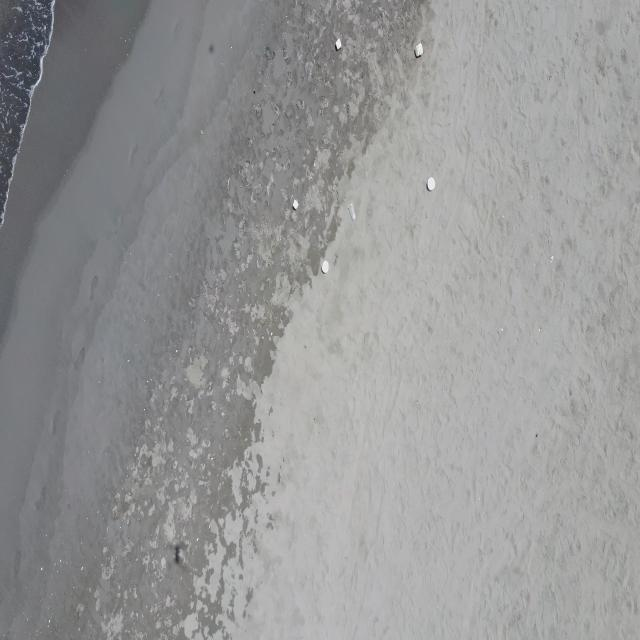take-away-containers: (426, 176, 436, 192), (415, 42, 423, 58), (321, 259, 329, 274), (292, 198, 300, 210), (336, 38, 342, 51)
takeaway-cup: (348, 202, 356, 221)
